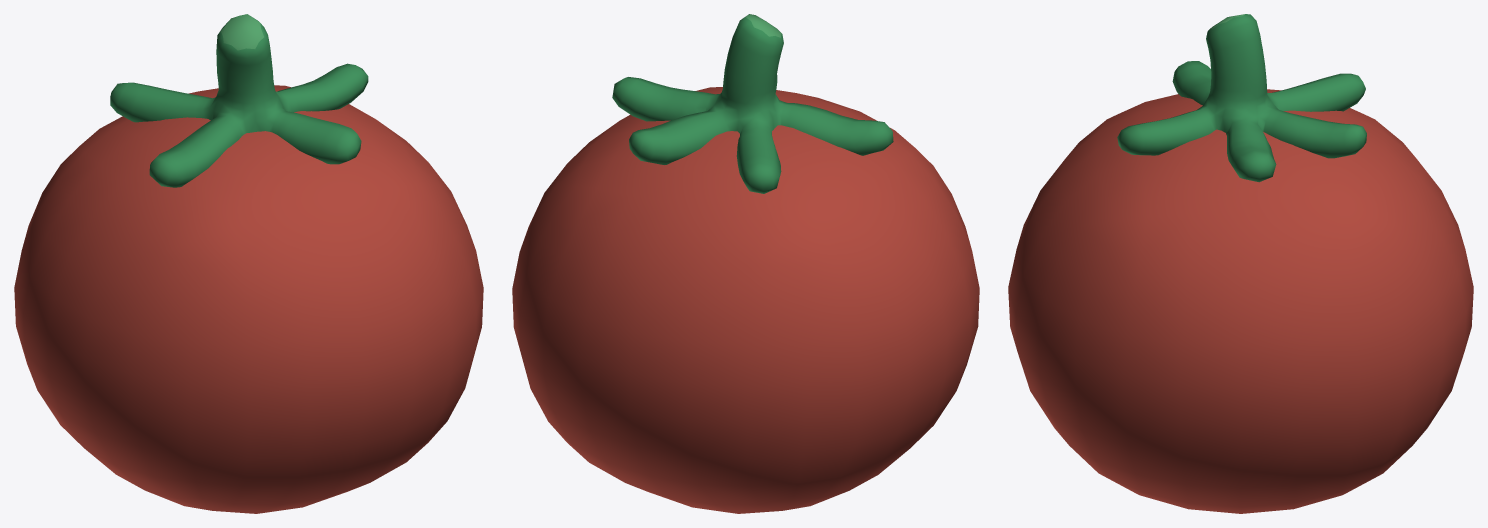
File: Tomato_01.dae
The picture shows the model from 3 angles, left to right: view 1: azimuth 30°, elevation 25°; view 2: azimuth 150°, elevation 25°; view 3: azimuth 270°, elevation 25°; orthographic projection.
Visible parts, largest first — view 1: Tomato_01_LOD0; view 2: Tomato_01_LOD0; view 3: Tomato_01_LOD0.
Part boxes in pixels (left/top/right/bottom): Tomato_01_LOD0: left=14, top=14, right=483, bottom=513; Tomato_01_LOD0: left=512, top=14, right=979, bottom=513; Tomato_01_LOD0: left=1008, top=14, right=1473, bottom=513.
Size of what is drawn, in the model's own units: 4.17 by 4.18 by 4.7.
